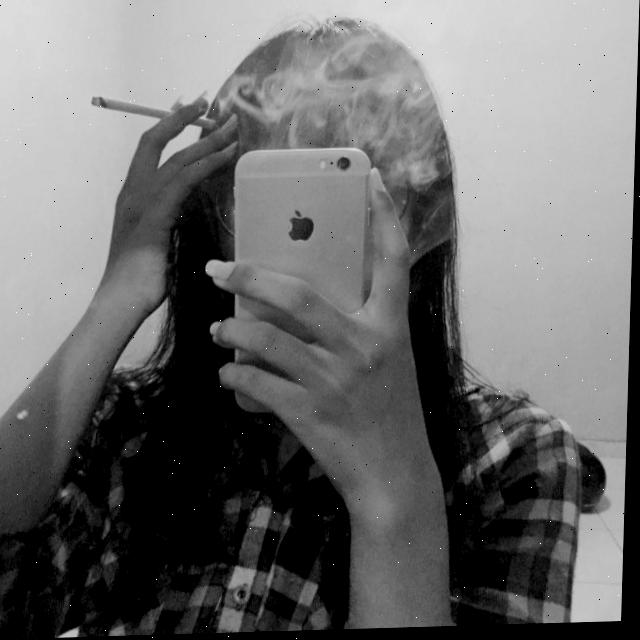cigarette: (91, 94, 217, 135)
